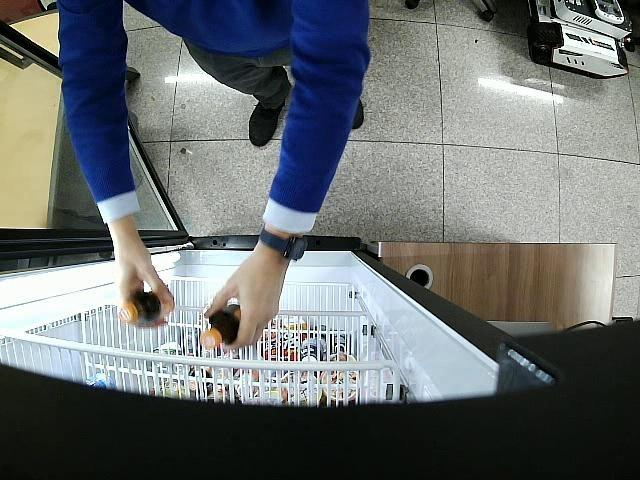17_vita500: (204, 305, 242, 350), (119, 289, 162, 324)
